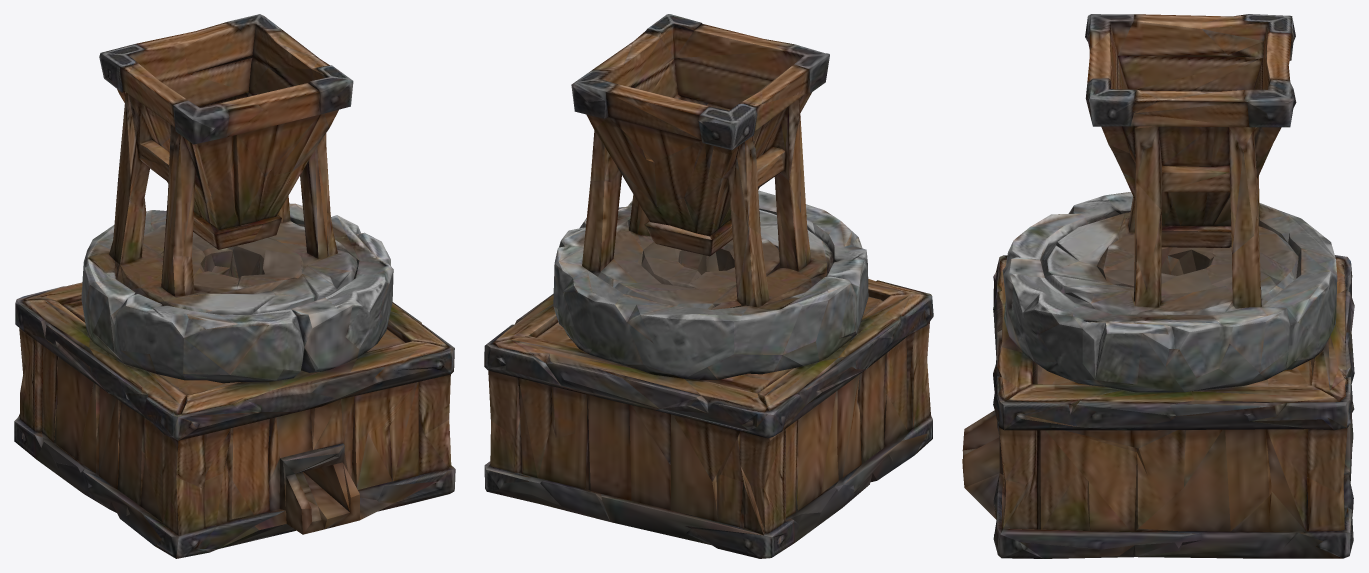
Rendered from millstone_3d.glb.
3 views of the same model, side by side, from view 1: azimuth 30°, elevation 25°; view 2: azimuth 150°, elevation 25°; view 3: azimuth 270°, elevation 25° (orthographic). The views are drawn at different scales.
Parts seen in each view (by area): view 1: Mesh_0; view 2: Mesh_0; view 3: Mesh_0.
Part boxes in pixels (<box>): Mesh_0: <box>14,14,455,558</box>; Mesh_0: <box>484,14,933,558</box>; Mesh_0: <box>962,14,1354,558</box>.
Size of the model in its own units: 0.9549 by 1.25 by 1.03.
1 material, 1 textured.
